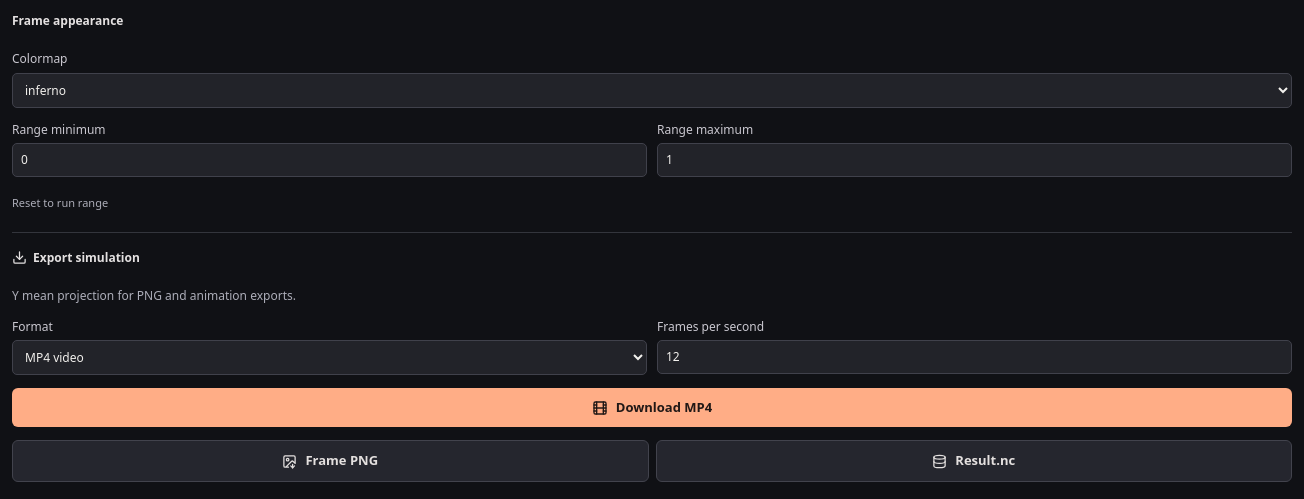
it: polls a queued GIF export after Retry-After and downloads only the finished file
The image size is (1304, 499).
Later steps or results of the test are not shown.
Step 1. Select "Animated GIF" in the dropdown named "Animation format" → coordinates (330, 358), box [12, 340, 647, 375]
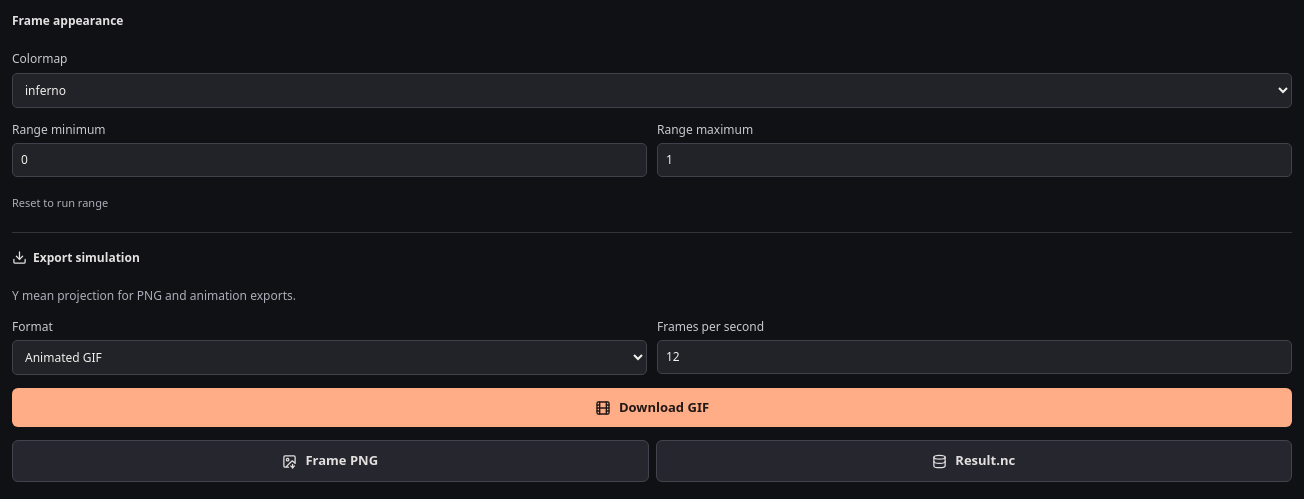
Step 2. Replace the text in the number field labelled "Frames per second" with "12.5" → coordinates (974, 357), box [657, 340, 1292, 374]
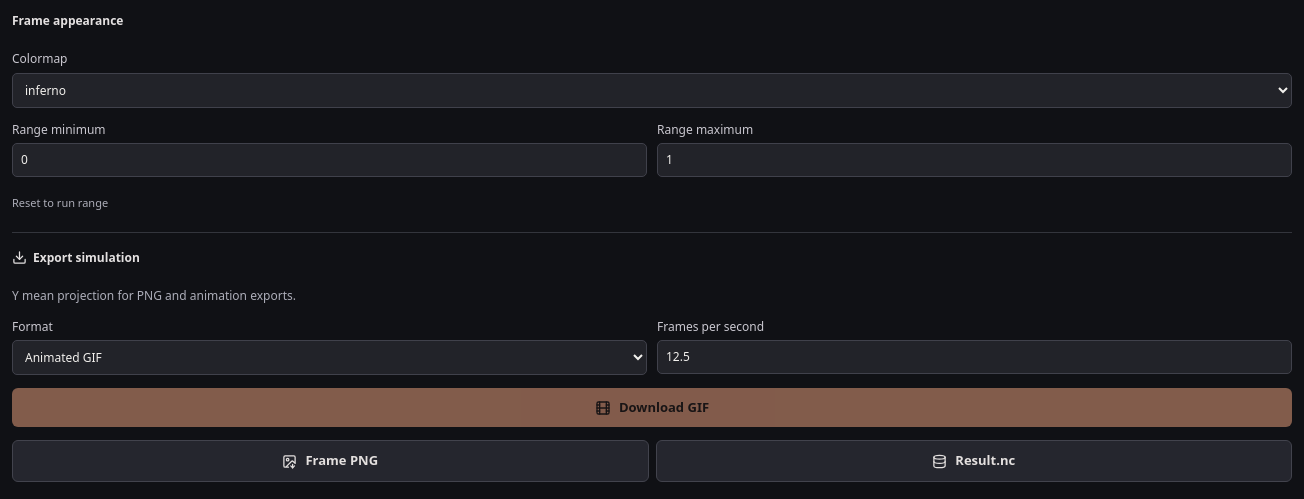
Now the button "Download GIF" is disabled, box [12, 388, 1292, 428]
Step 3. Replace the text in the number field labelled "Frames per second" with "15" → coordinates (974, 357), box [657, 340, 1292, 374]
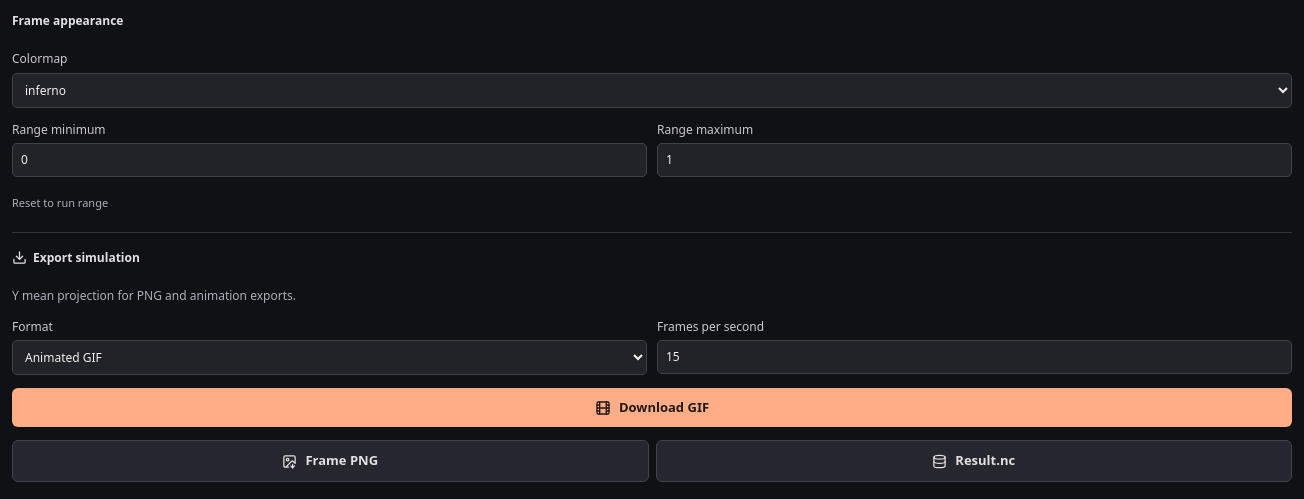
Step 4. Click the button "Download GIF" → coordinates (652, 408), box [12, 388, 1292, 428]
Now the button "Download GIF" is enabled, box [12, 388, 1292, 428]
